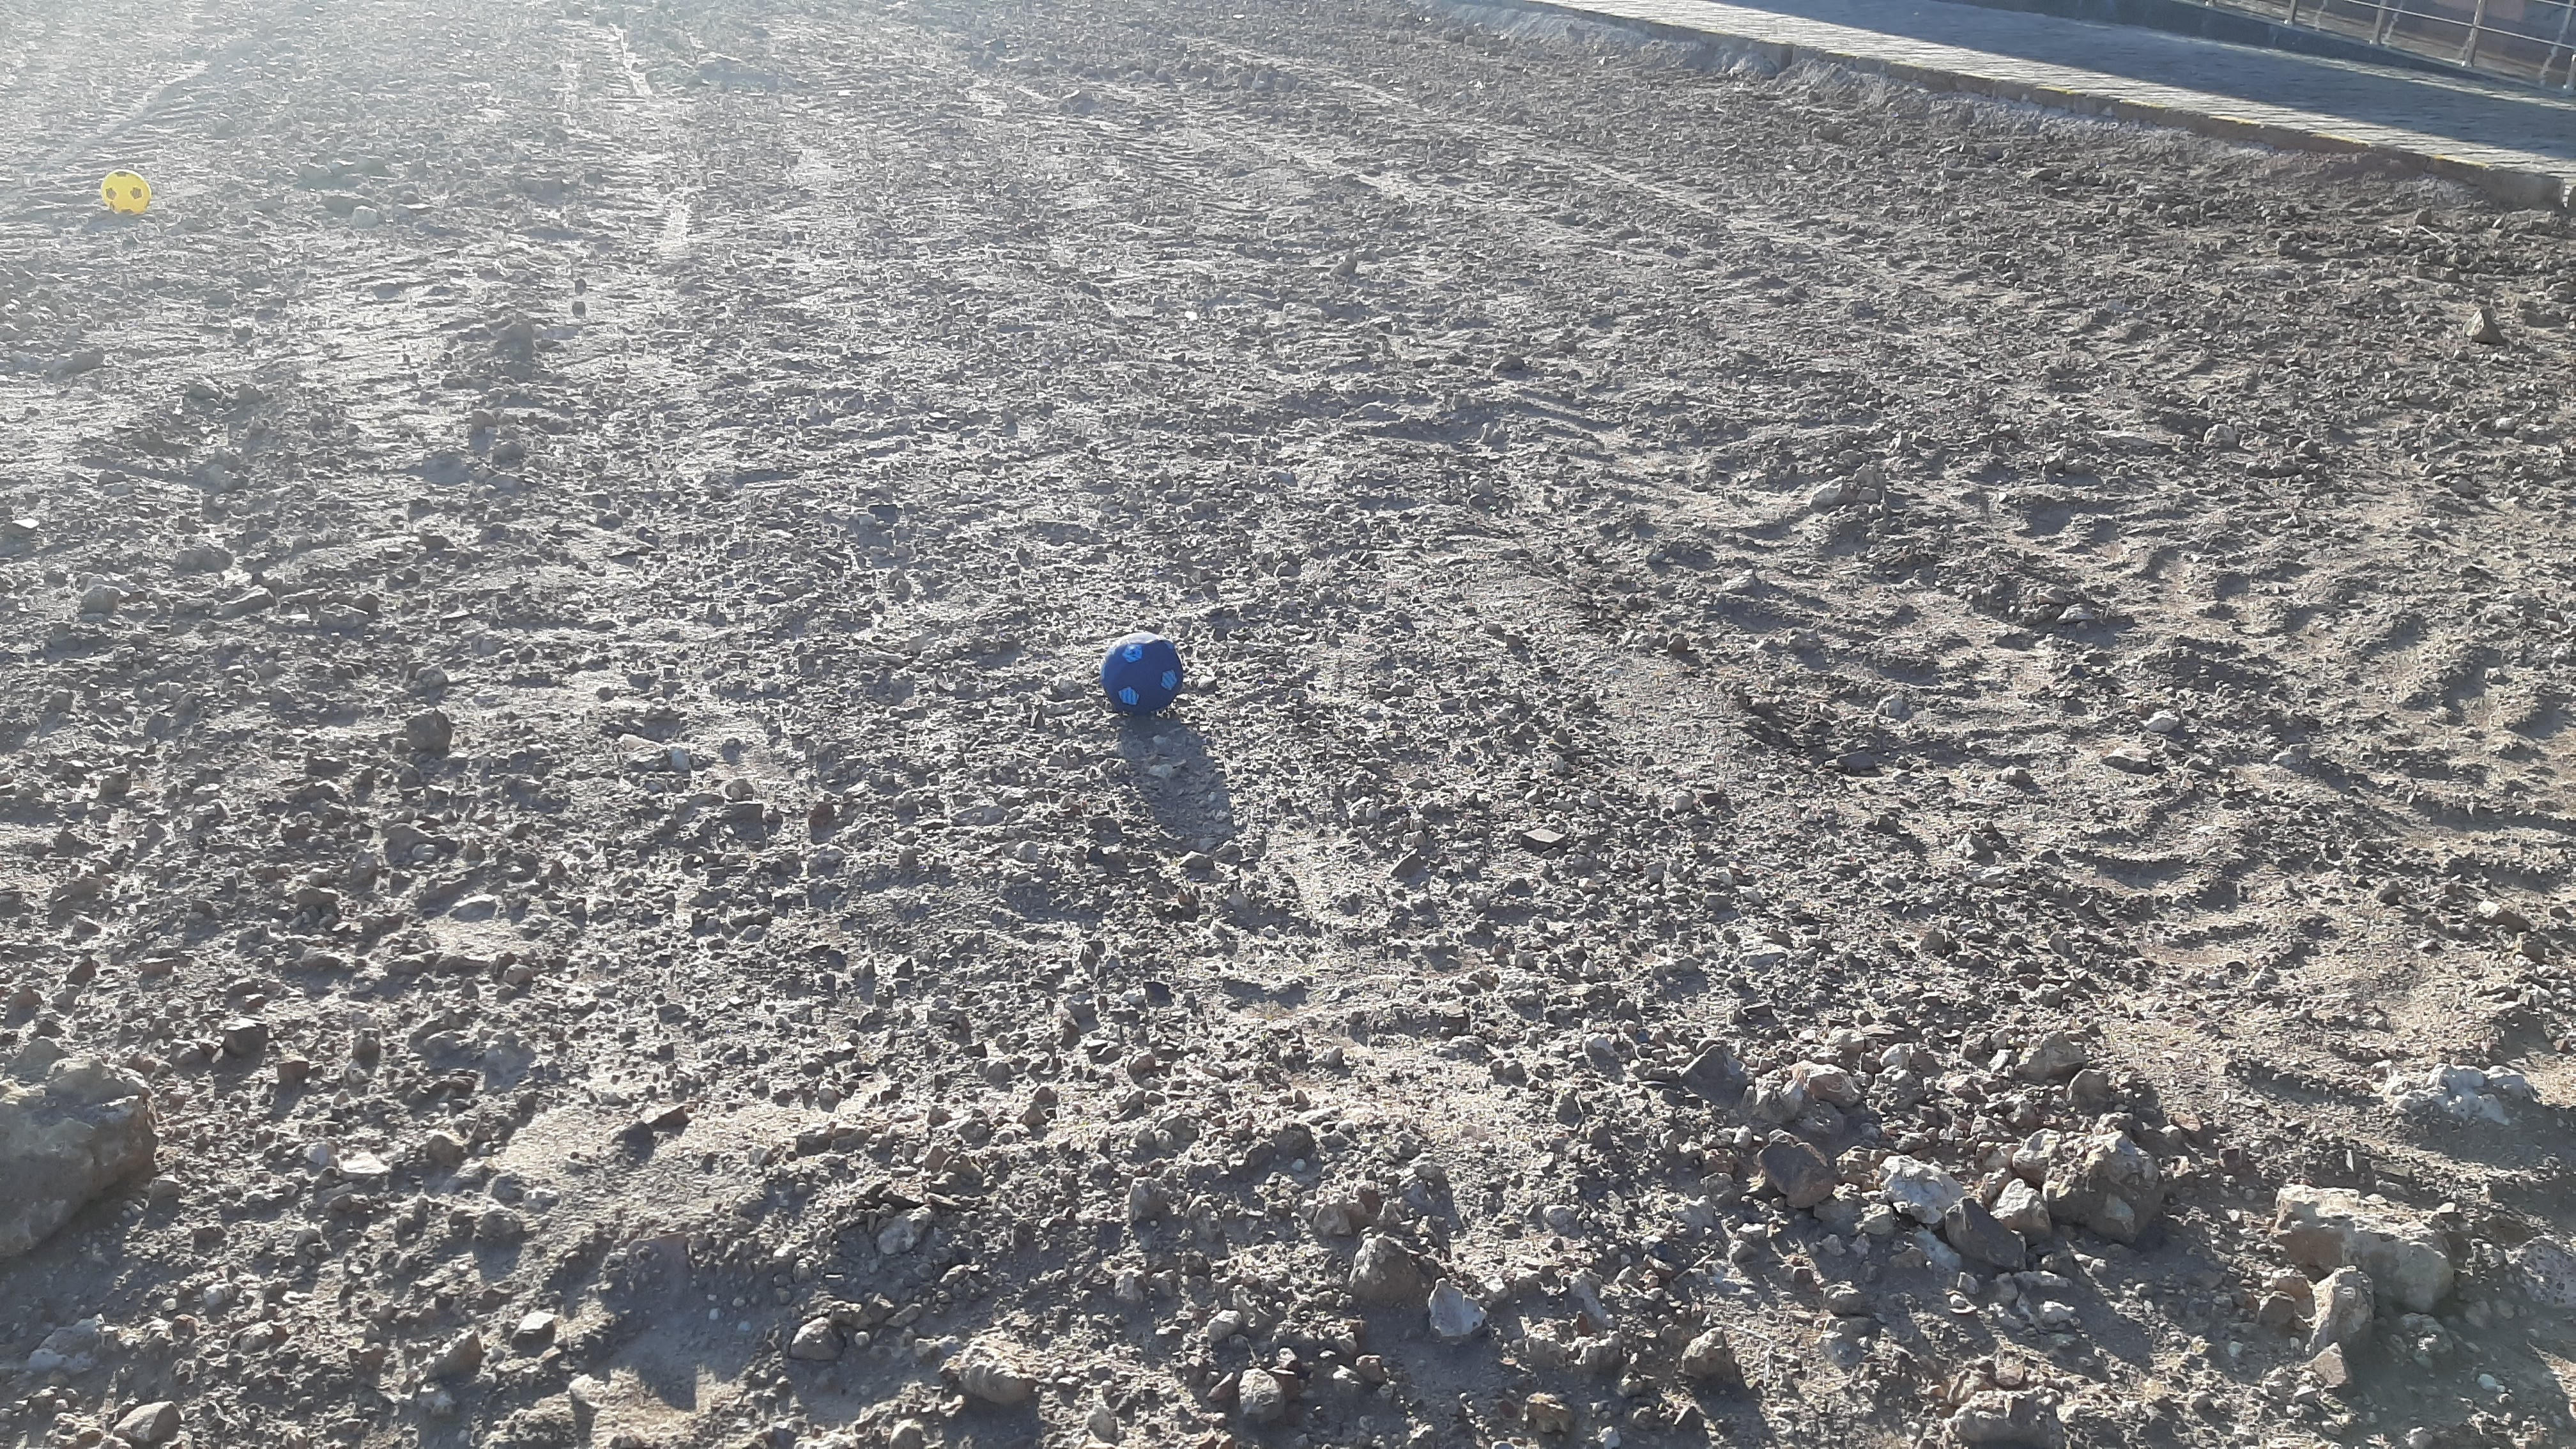soccer_ball: (1100, 633, 1184, 713)
